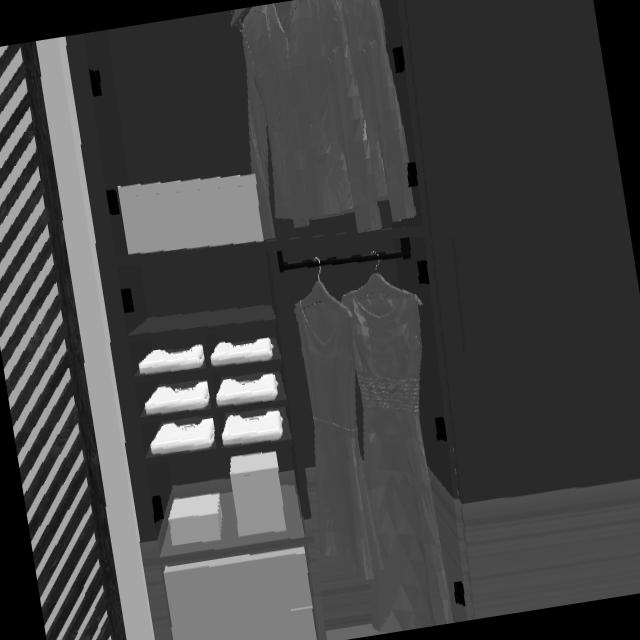wardrobe: (65, 0, 640, 640)
